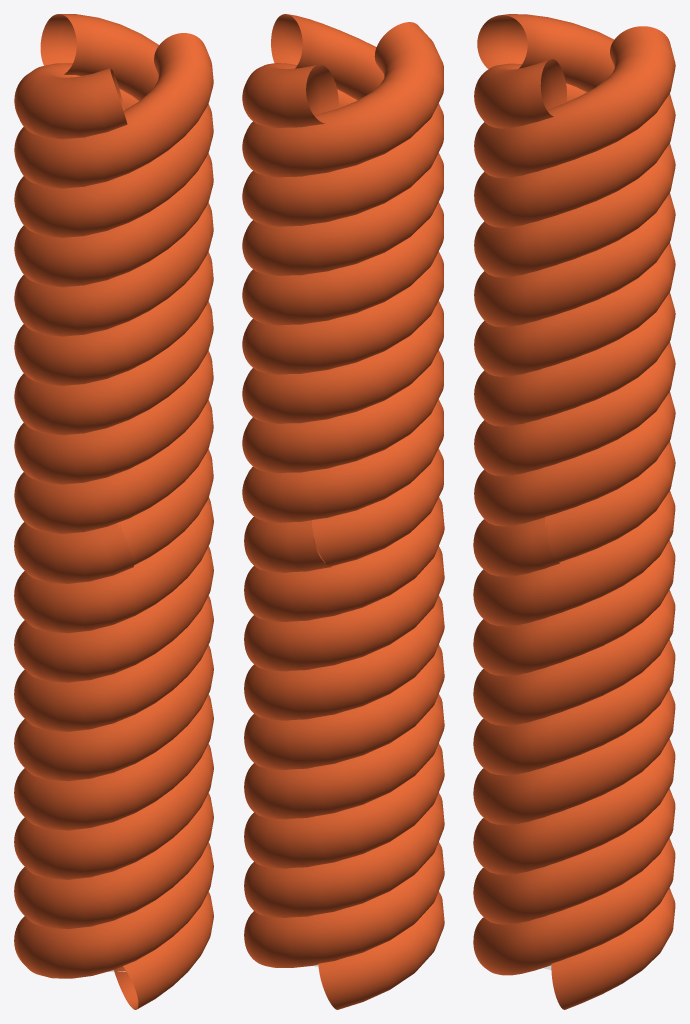
Rendered from Rope.fbx.
3 renders of one model, left to right at view 1: azimuth 30°, elevation 25°; view 2: azimuth 150°, elevation 25°; view 3: azimuth 270°, elevation 25°, orthographic.
Visible parts, largest first — view 1: Spiral.001, Spiral.002; view 2: Spiral.001, Spiral.002; view 3: Spiral.001, Spiral.002.
Part boxes in pixels (x1,y1,x2,y2): Spiral.001: (14, 14, 213, 565); Spiral.002: (14, 497, 213, 1009); Spiral.001: (242, 14, 443, 566); Spiral.002: (244, 497, 444, 1009); Spiral.001: (474, 14, 675, 562); Spiral.002: (473, 470, 675, 1009).
Bounding box in the file's own units: 165 × 865 × 168.
